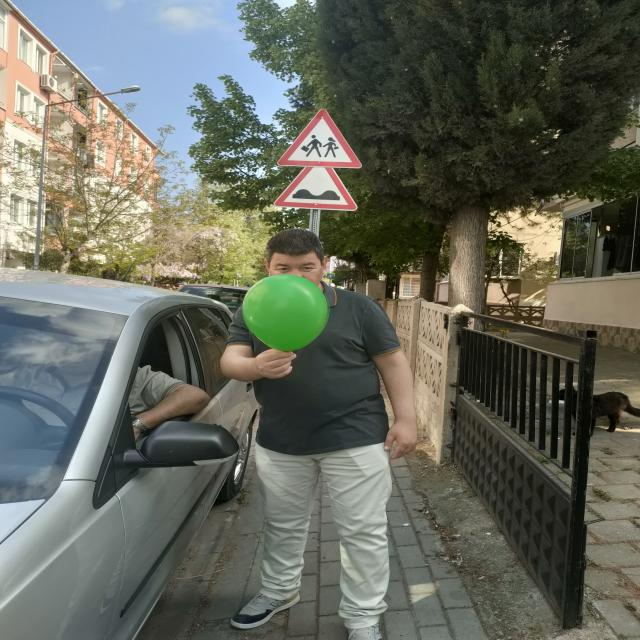green: (244, 275, 330, 352)
